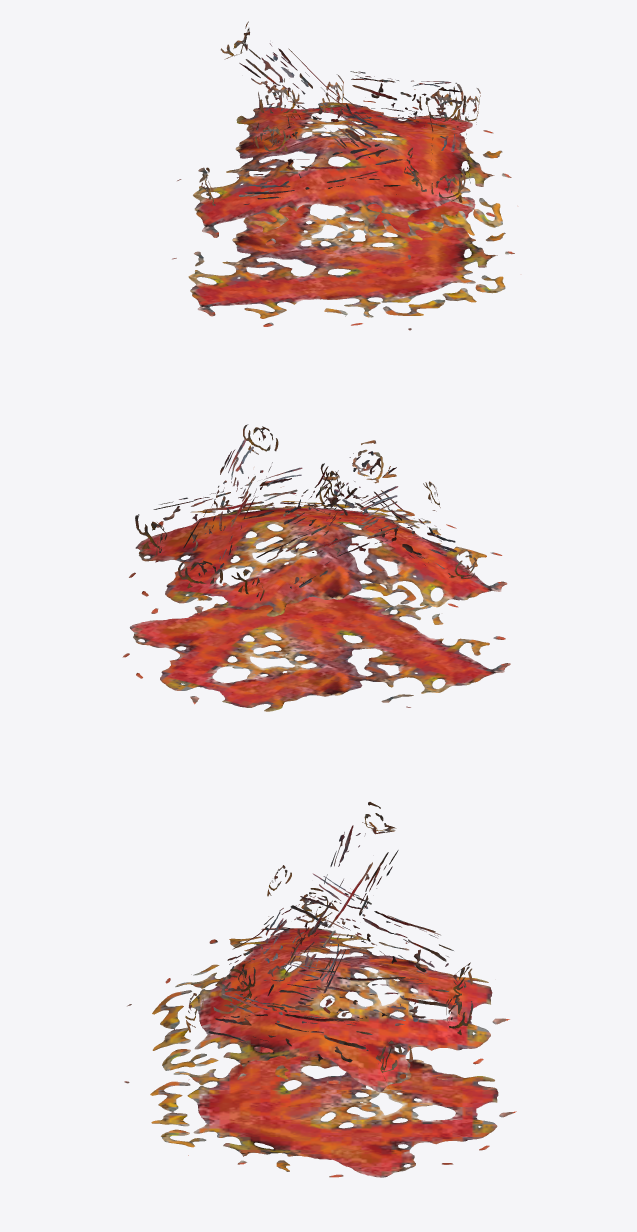
Rendered from eqp_camping_log_burnt_l1.fbx.
The picture shows the model from 3 angles, top to bottom: view 1: azimuth 30°, elevation 25°; view 2: azimuth 150°, elevation 25°; view 3: azimuth 270°, elevation 25°; orthographic projection. The views are drawn at different scales.
Visible parts, largest first — view 1: mesh_node; view 2: mesh_node; view 3: mesh_node.
Part boxes in pixels (x1,y1,x2,y2): mesh_node: [172, 21, 514, 330]; mesh_node: [122, 424, 510, 711]; mesh_node: [124, 802, 516, 1177].
Bounding box in the file's own units: 1.08 × 0.498 × 1.08.
2 materials, 2 textured.
